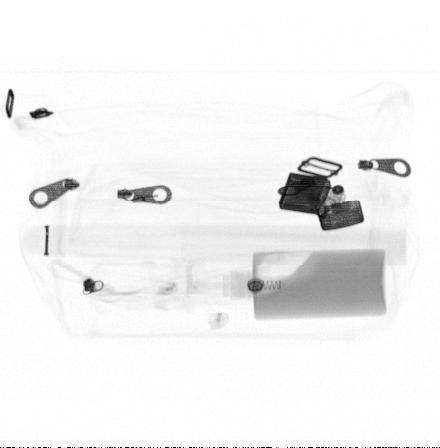Lighter: (278, 172, 364, 231)
